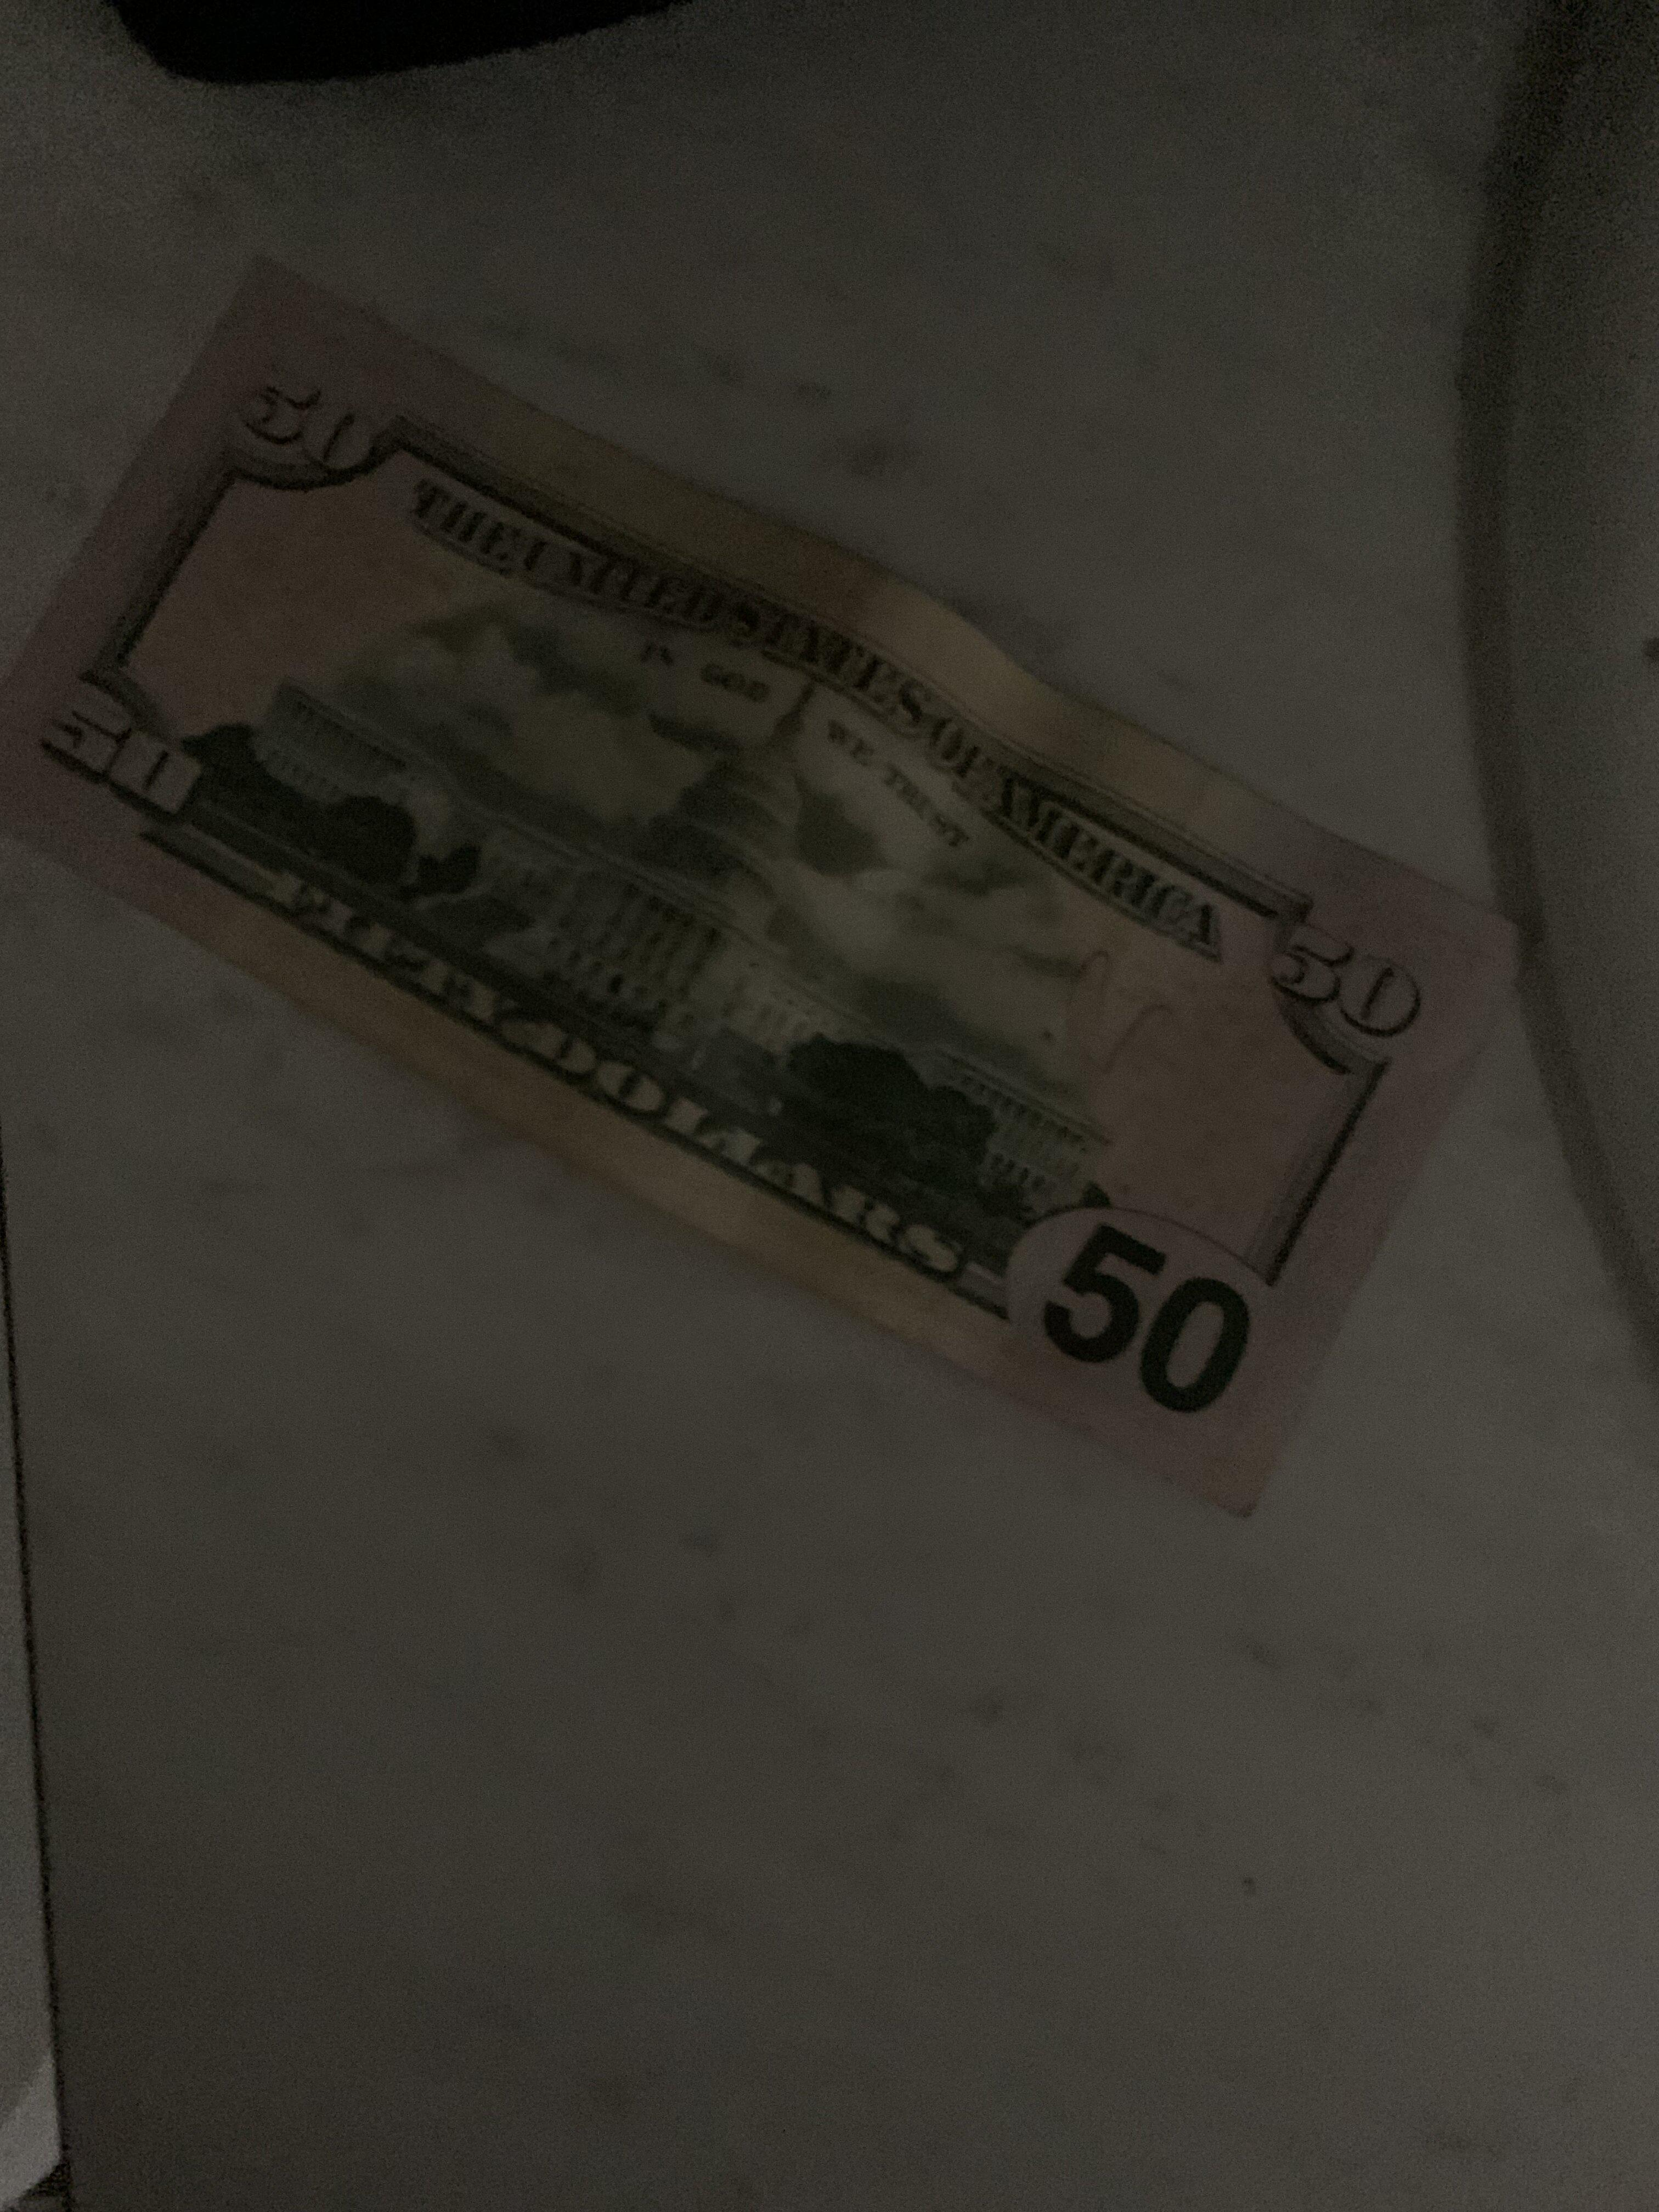FiftyBill: (2, 230, 1617, 1583)
